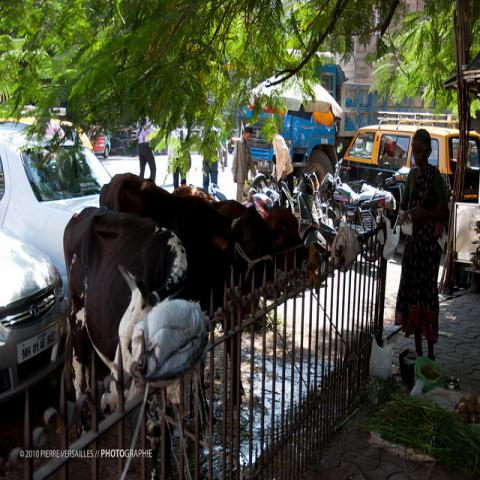car: (0, 122, 114, 291), (1, 227, 72, 393), (338, 124, 477, 201), (61, 120, 94, 154), (86, 125, 110, 159)
motorcycle: (251, 173, 332, 280), (321, 143, 385, 260), (358, 163, 411, 229), (245, 185, 301, 240), (310, 171, 337, 244)
truck: (238, 51, 448, 187)
